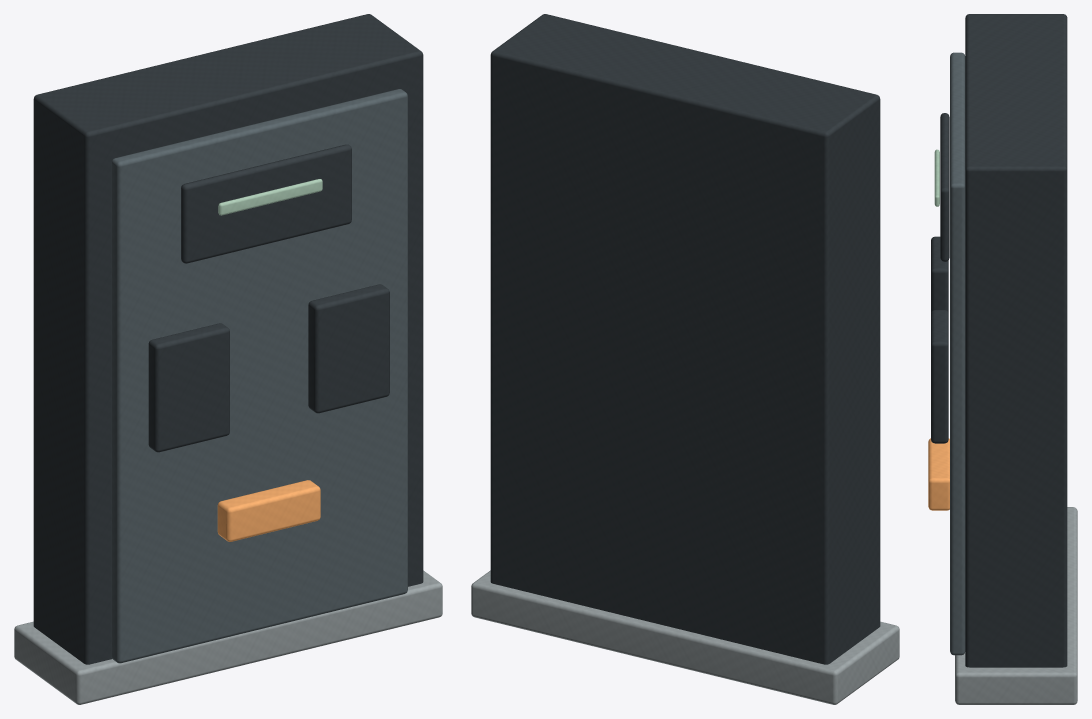
File: WallChargingStation.glb
3 renders of one model, left to right at view 1: azimuth 30°, elevation 25°; view 2: azimuth 150°, elevation 25°; view 3: azimuth 270°, elevation 25°, orthographic. The views are drawn at different scales.
Parts seen in each view (by area): view 1: WallChargingStation_Mesh; view 2: WallChargingStation_Mesh; view 3: WallChargingStation_Mesh.
Part boxes in pixels (x1=…): WallChargingStation_Mesh: x1=14, y1=14, x2=442, y2=704; WallChargingStation_Mesh: x1=471, y1=14, x2=899, y2=704; WallChargingStation_Mesh: x1=928, y1=14, x2=1077, y2=704.
Bounding box in the file's own units: 0.78 × 1.15 × 0.2925.
5 materials, 5 textured.
